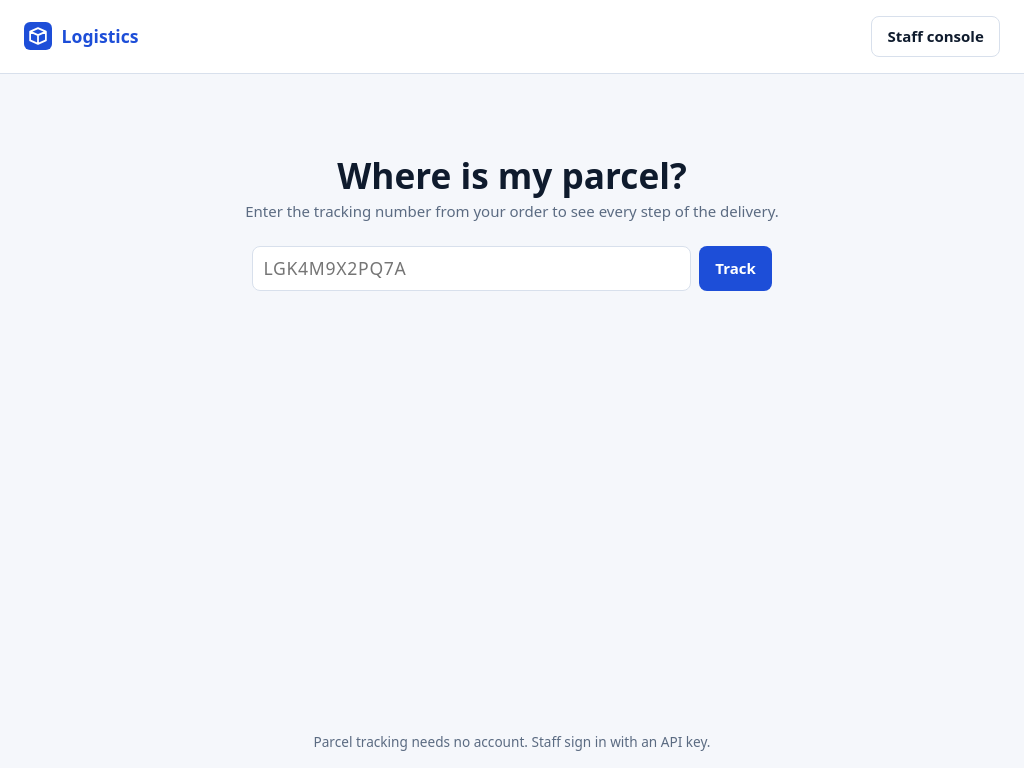
Test: home and tracking › rejects a malformed tracking number without calling the server
Step 1. Type "abc" into the field named "Tracking number" → (472, 268), box [252,246,691,291]
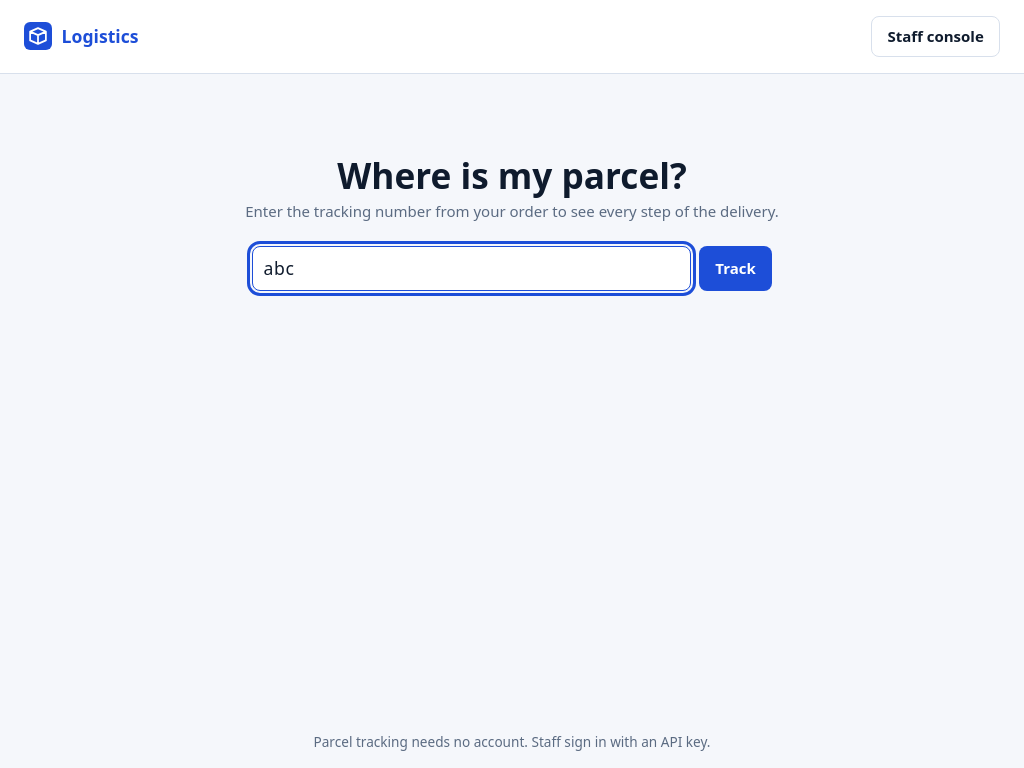
Step 2. Click the button "Track" → (736, 268), box [699,246,772,291]
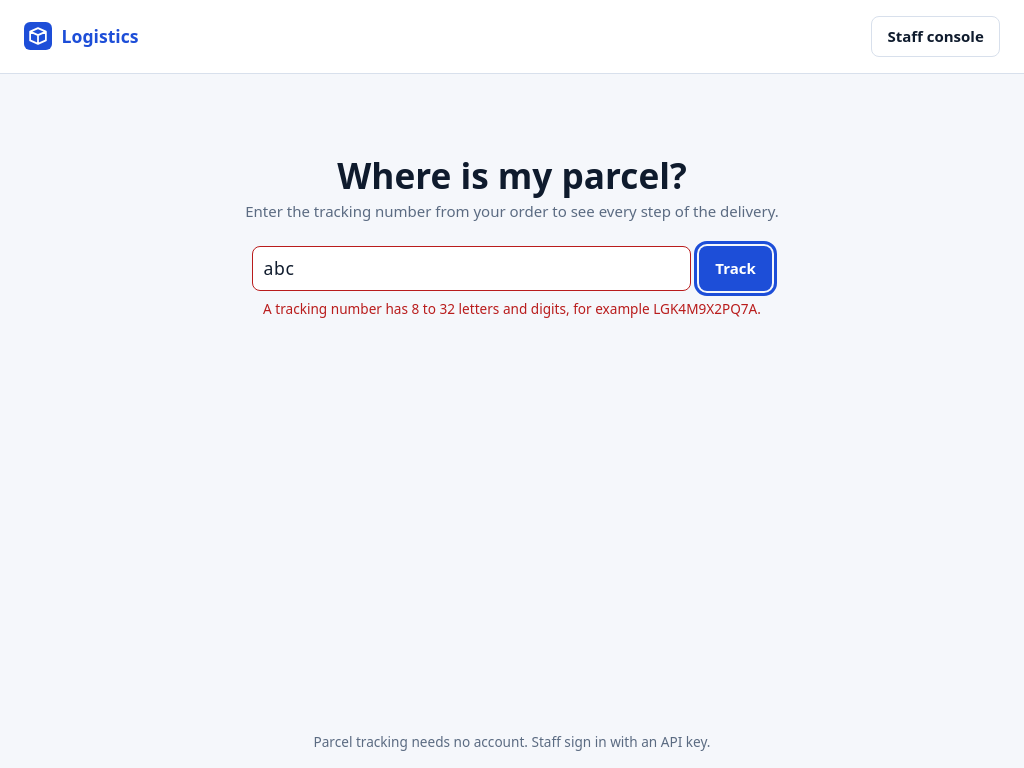
Expected: the message shows "8 to 32 letters and digits", [263,299,761,318]
